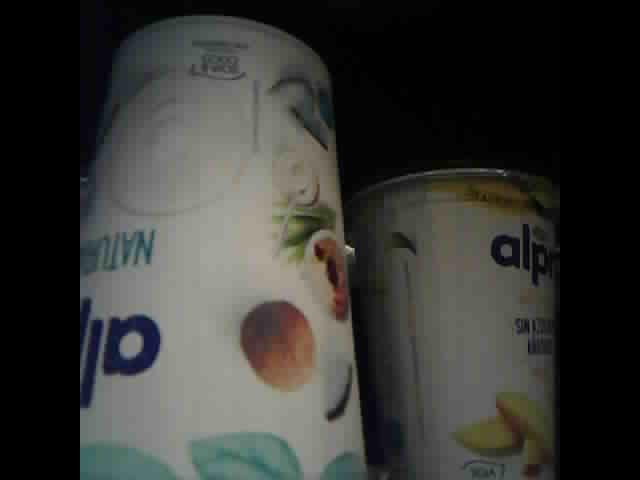alpro: (81, 15, 370, 477), (347, 166, 561, 478)
